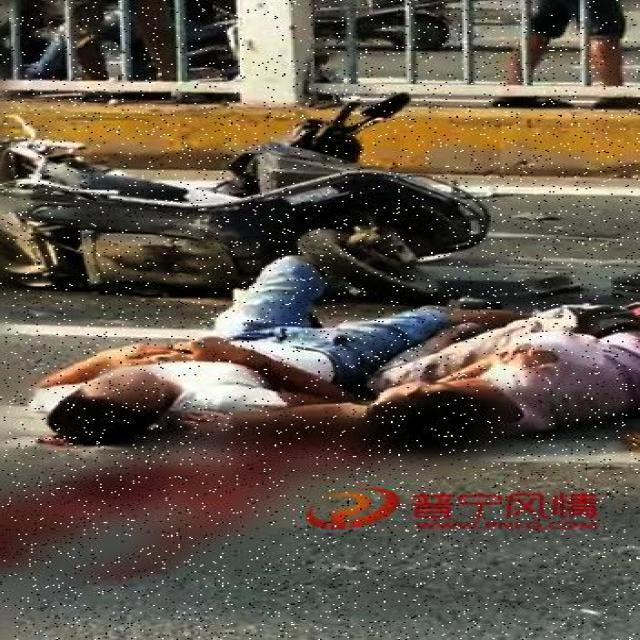fall: (18, 269, 410, 445)
